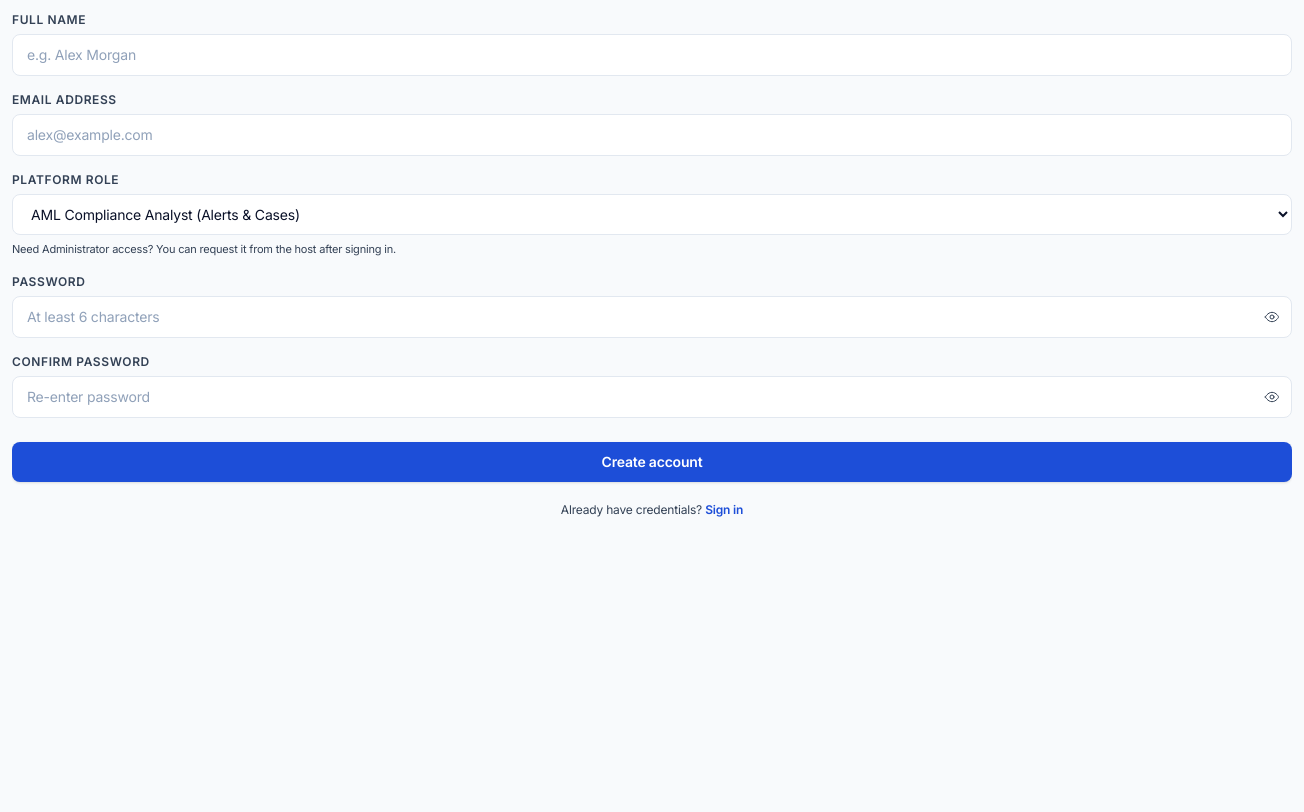
it: SignUpForm › shows error when password is less than 6 characters
Type "Jane Doe" into the field labelled "Full name" at [652, 55], box [12,34,1292,76]
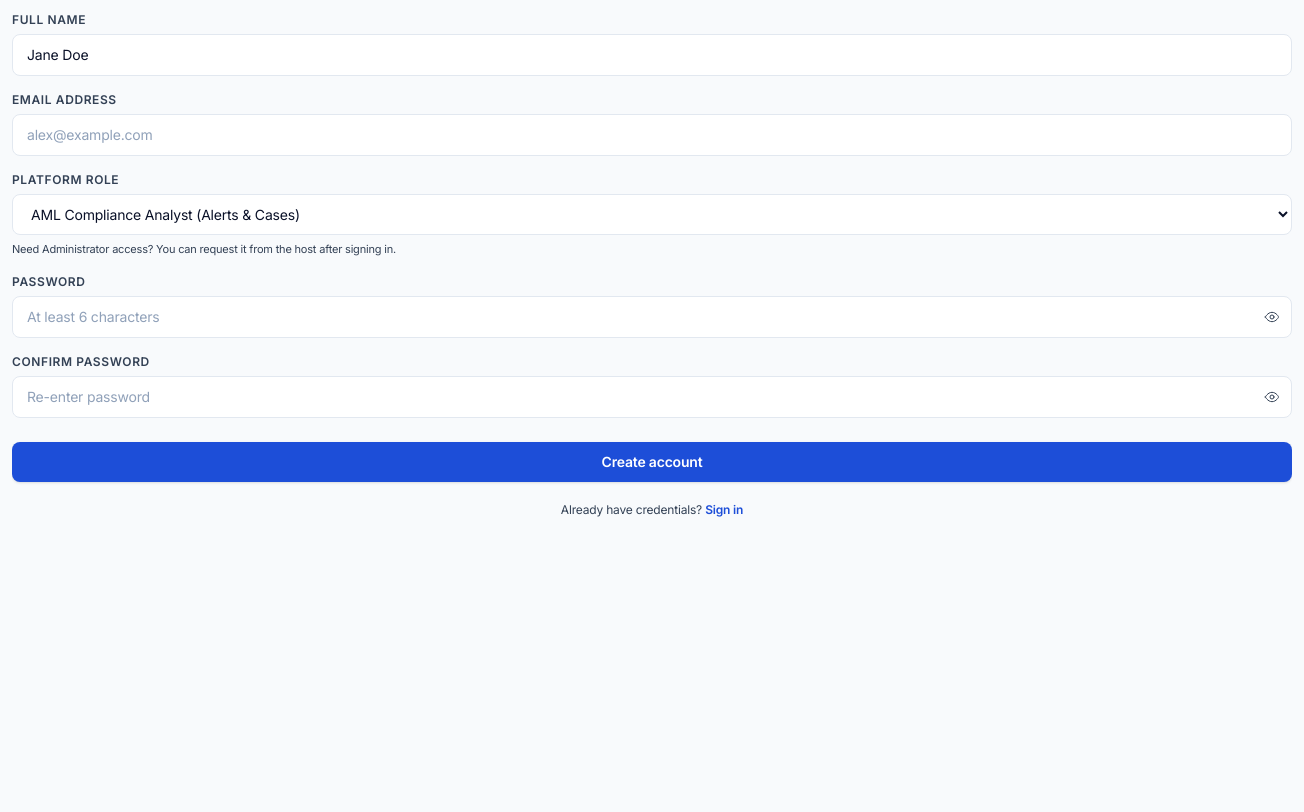
Type "jane@example.com" into the field labelled "Email address" at [652, 135], box [12,114,1292,156]
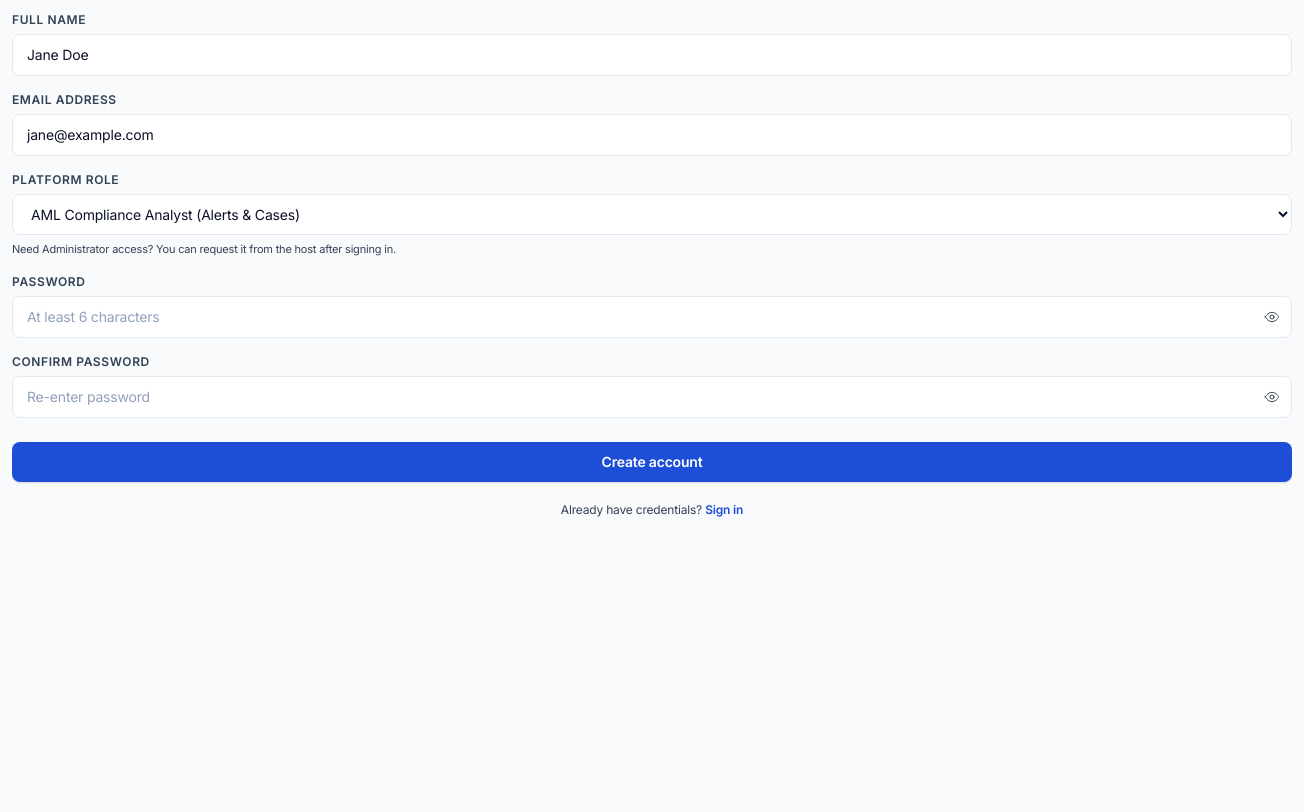
Type "123" into the password field labelled "Password" at [652, 316], box [12,296,1292,338]
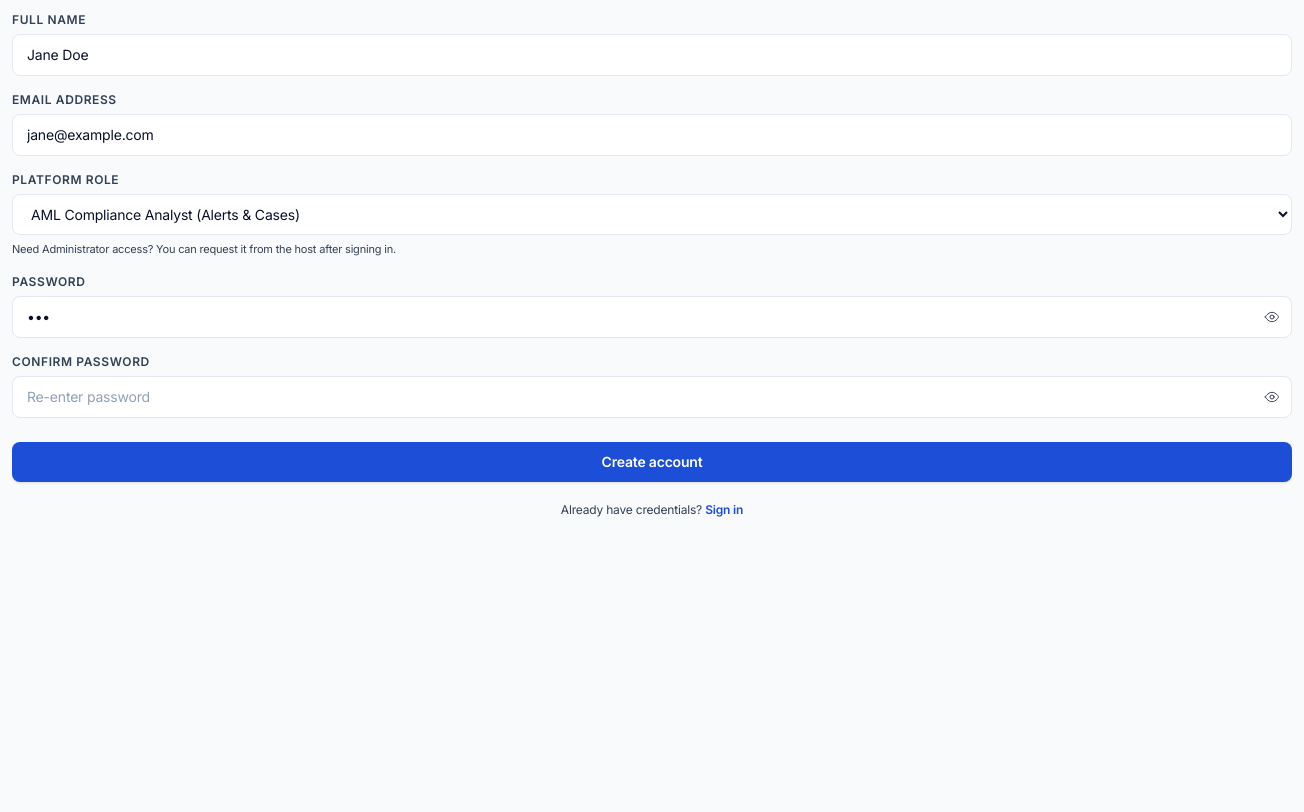
Type "123" into the password field labelled "Confirm password" at [652, 396], box [12,376,1292,418]
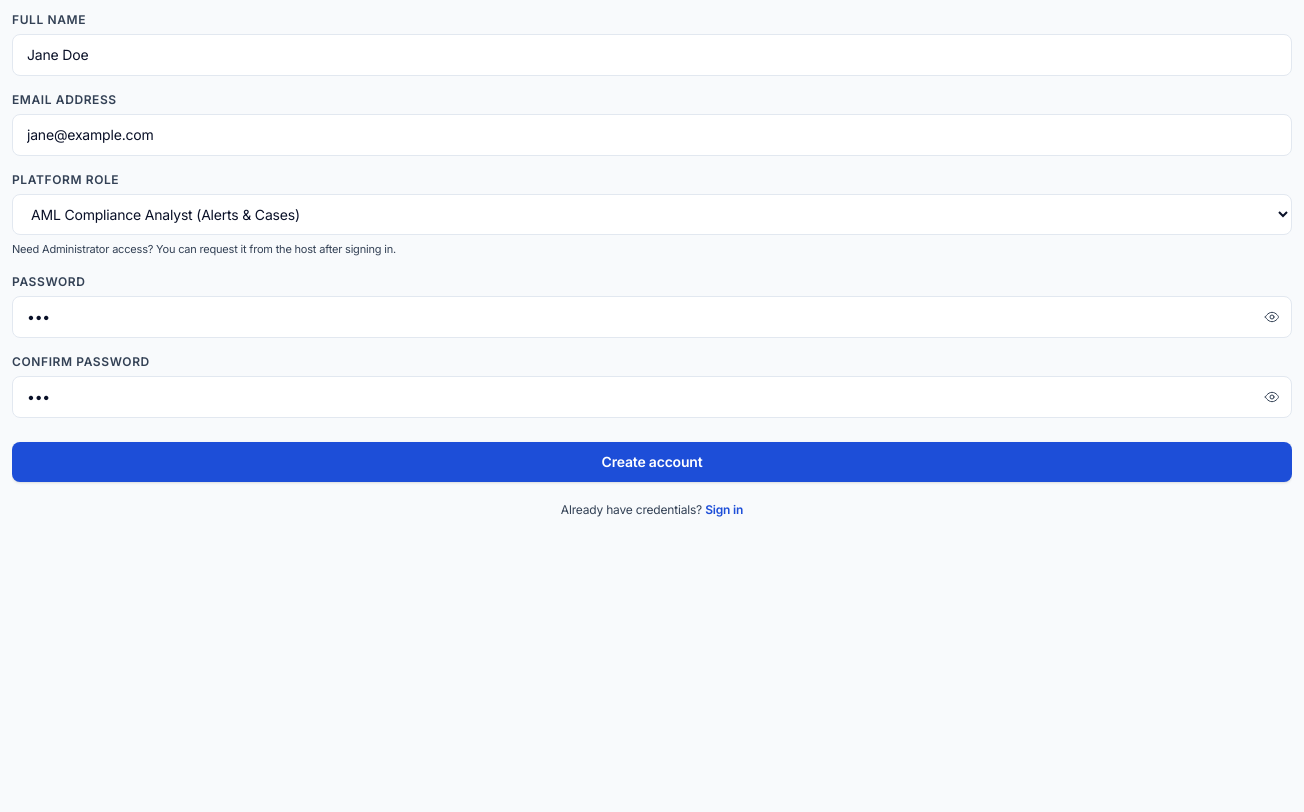
Click the button "Create account" at [652, 462], box [12,442,1292,482]
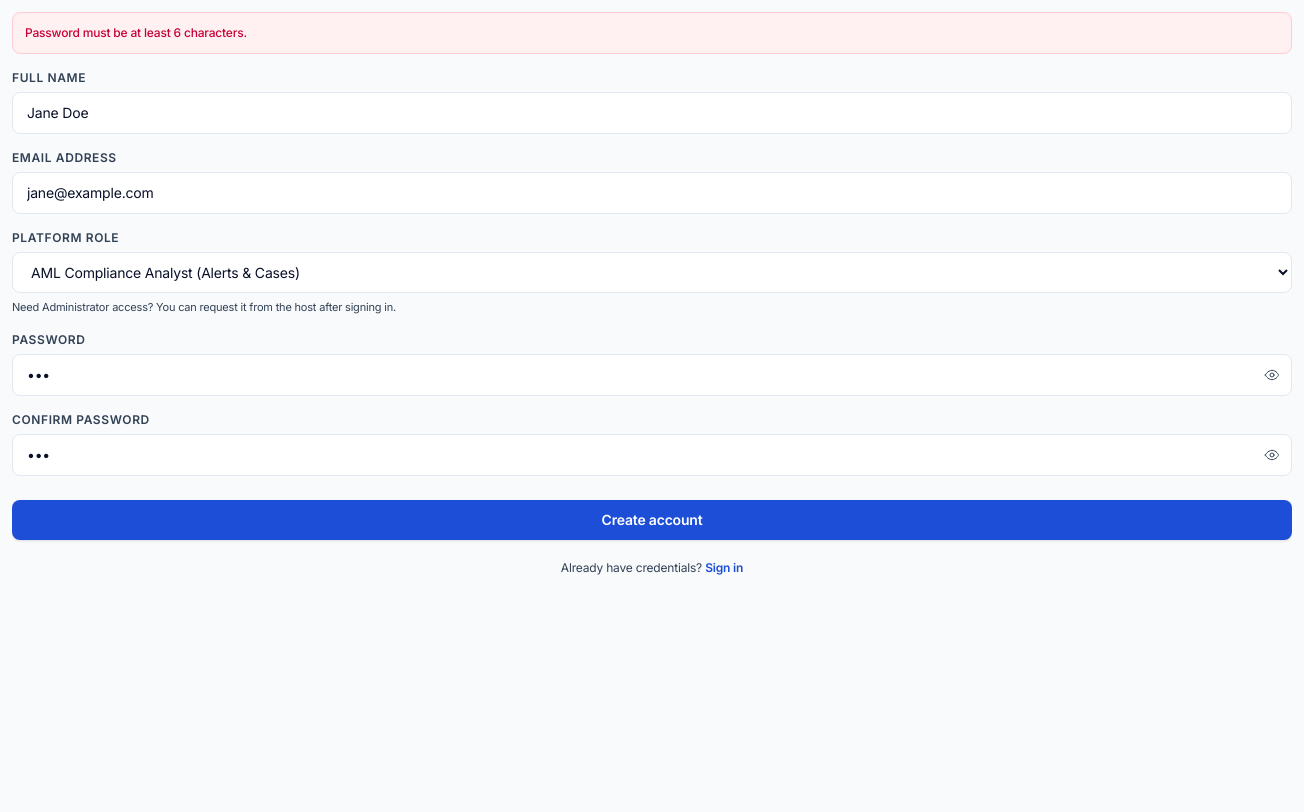
Result: the message reads "Password must be at least 6 characters." at [25,25,247,40]
